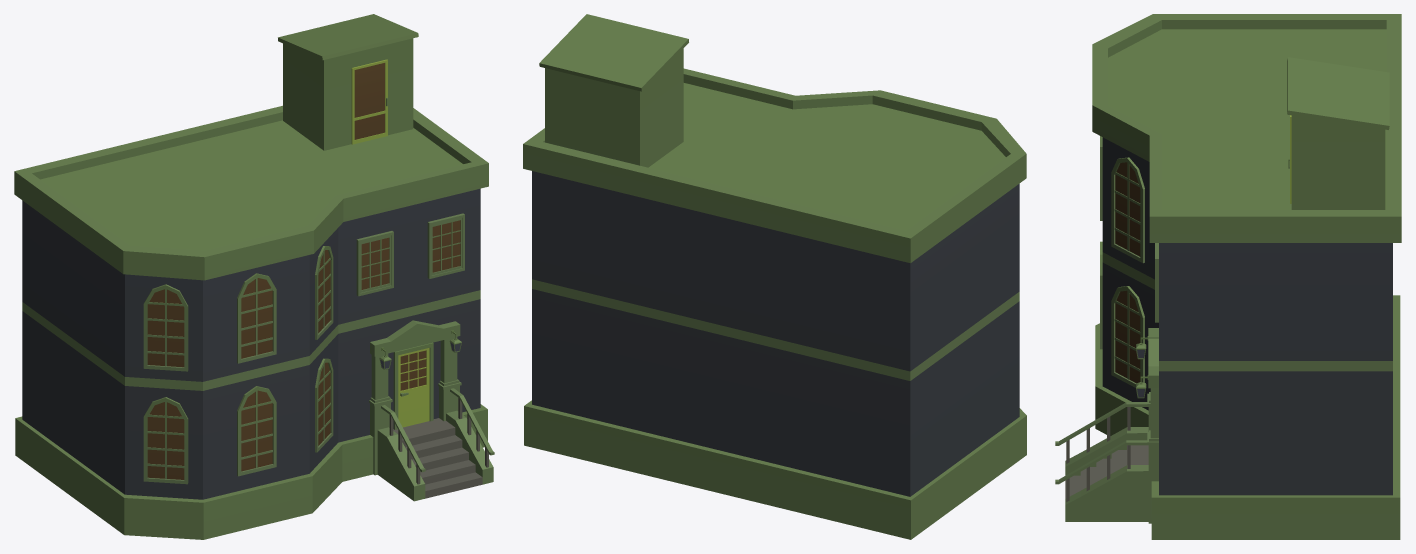
File: House_16.fbx
The picture shows the model from 3 angles, left to right: view 1: azimuth 30°, elevation 25°; view 2: azimuth 150°, elevation 25°; view 3: azimuth 270°, elevation 25°; orthographic projection. The views are drawn at different scales.
Visible parts, largest first — view 1: House_16; view 2: House_16; view 3: House_16.
Part boxes in pixels (x1=…): House_16: x1=14, y1=14, x2=494, y2=539; House_16: x1=523, y1=14, x2=1026, y2=539; House_16: x1=1055, y1=14, x2=1401, y2=539.
Size of the model in its own units: 10.24 by 9.99 by 7.4.
